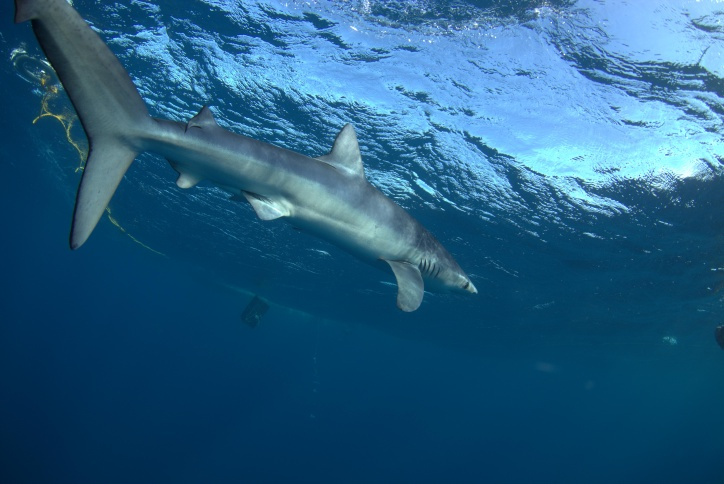Azul: (1, 4, 509, 360)
